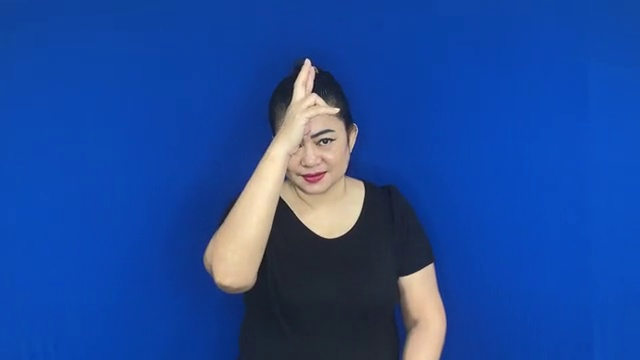chicken: (279, 52, 347, 160)
